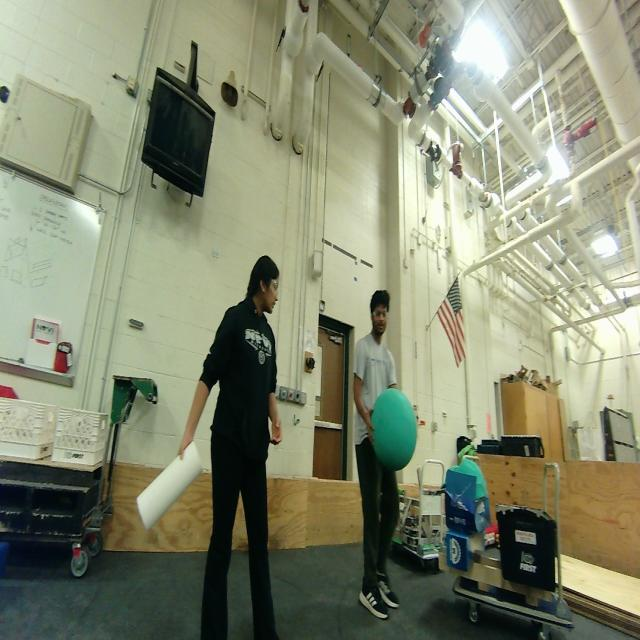algae: (370, 388, 417, 472)
coral: (136, 440, 203, 530)
